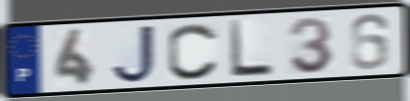3: (286, 14, 336, 76)
4: (52, 26, 97, 88)
6: (349, 12, 391, 72)
C: (165, 21, 221, 82)
J: (109, 23, 158, 86)
L: (227, 18, 277, 80)
